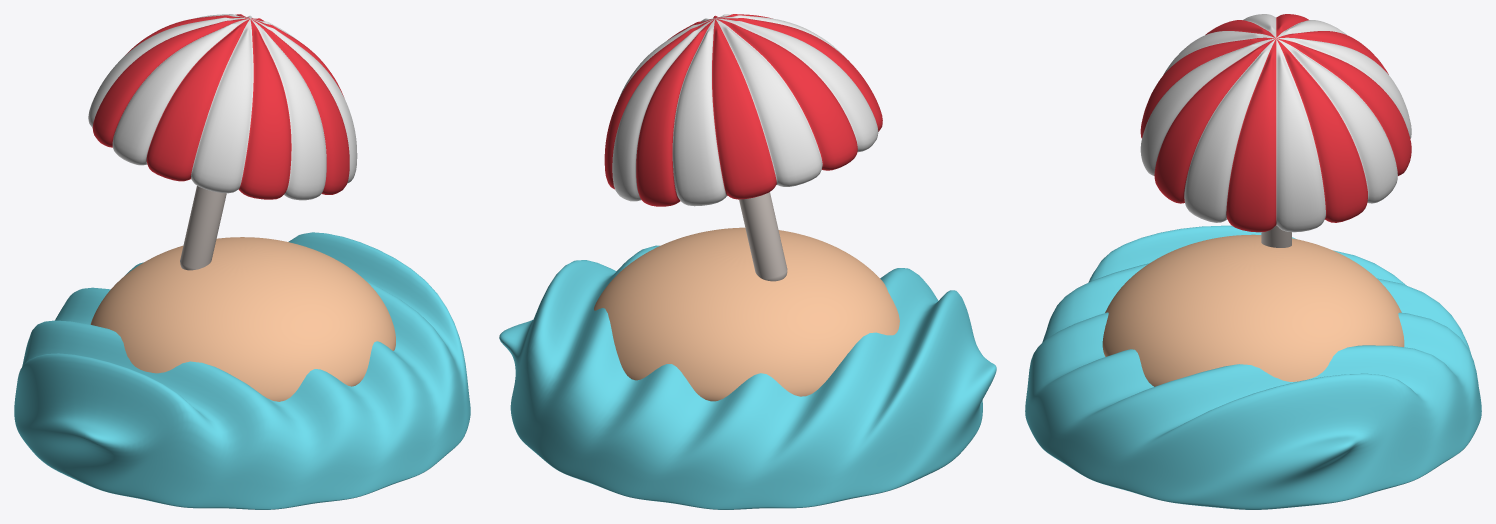
The model's file is water-animated-3d-icon-648191164925.glb.
The picture shows the model from 3 angles, left to right: view 1: azimuth 30°, elevation 25°; view 2: azimuth 150°, elevation 25°; view 3: azimuth 270°, elevation 25°; orthographic projection. The views are drawn at different scales.
Visible parts, largest first — view 1: Circle.006, Sphere.007, Sphere.006, Sphere.008; view 2: Circle.006, Sphere.007, Sphere.006, Sphere.008; view 3: Circle.006, Sphere.007, Sphere.006, Sphere.008.
Boxes of the visible parts, box(x1,y1,x2,y2) form: Circle.006: box(14, 232, 470, 509); Sphere.007: box(88, 14, 357, 200); Sphere.006: box(90, 237, 395, 401); Sphere.008: box(180, 186, 226, 270); Circle.006: box(499, 245, 996, 509); Sphere.007: box(604, 14, 882, 206); Sphere.006: box(594, 227, 899, 401); Sphere.008: box(739, 192, 787, 281); Circle.006: box(1025, 225, 1481, 509); Sphere.007: box(1140, 14, 1411, 232); Sphere.006: box(1102, 234, 1404, 386); Sphere.008: box(1261, 225, 1291, 247).
Size of the model in its own units: 2.02 by 1.86 by 1.99.
